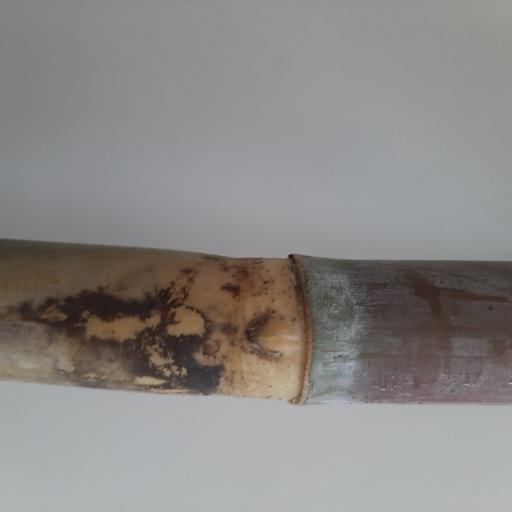Bud: (252, 315, 297, 357)
